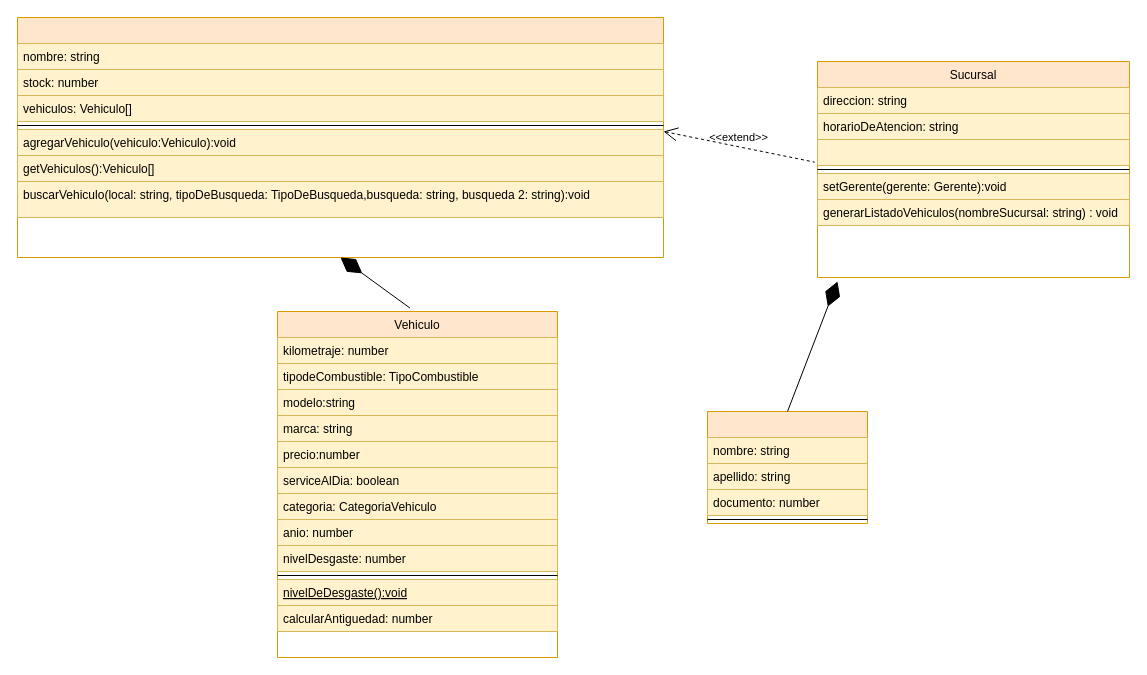
Image size: 1147x675. Some labels were removed from this diagram. The box of each missing label's shape, as (x1, y1, x2, y2) in pixels:
Concesionaria: (16, 16, 664, 258)
Gerente: (706, 410, 868, 524)
gerente: Gerente | null: (816, 138, 1130, 166)
